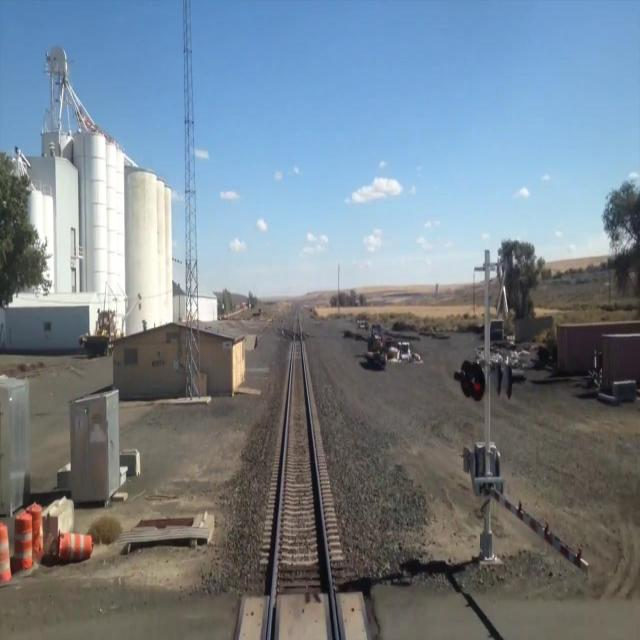bus-truck: (80, 311, 125, 359), (367, 325, 388, 371)
